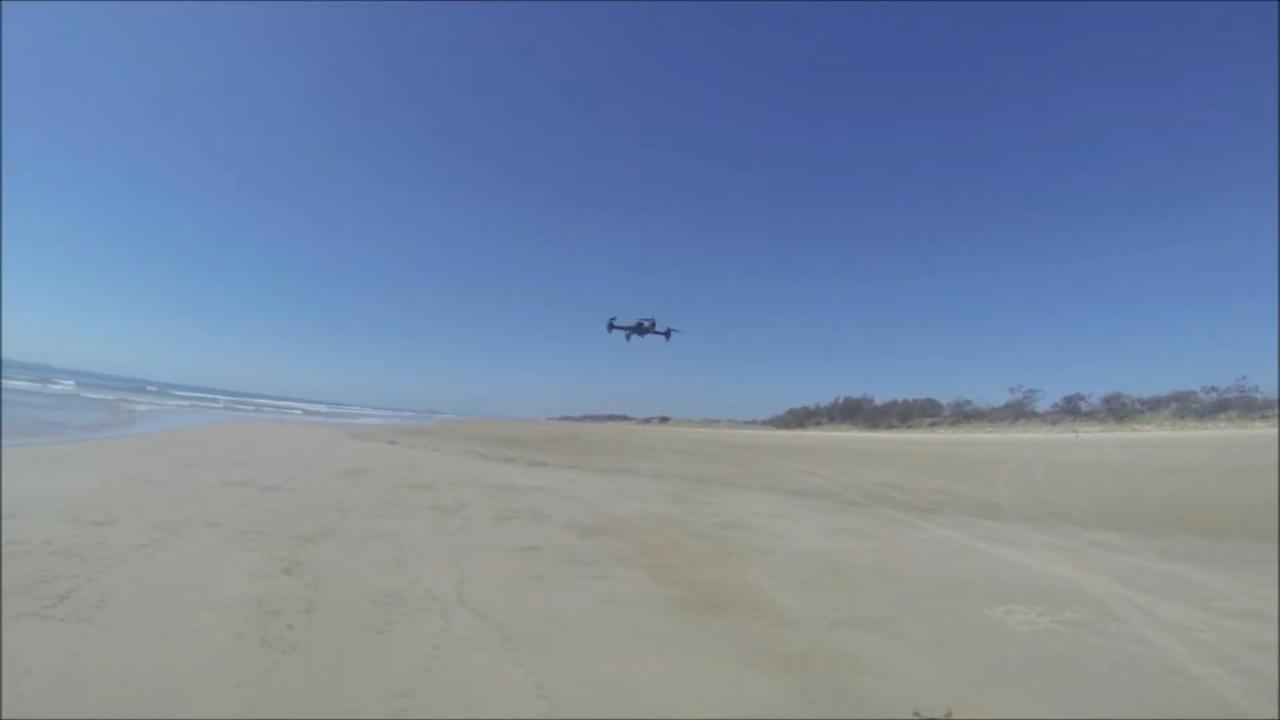Drone: (593, 303, 688, 356)
